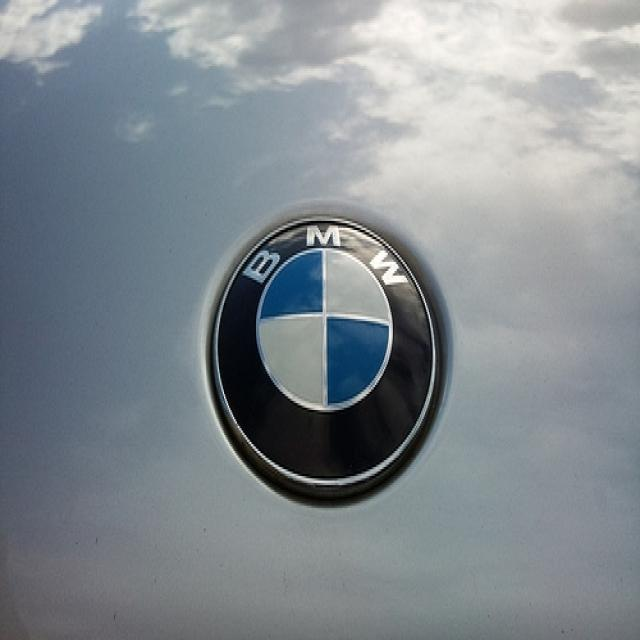bmw: (207, 208, 448, 511)
